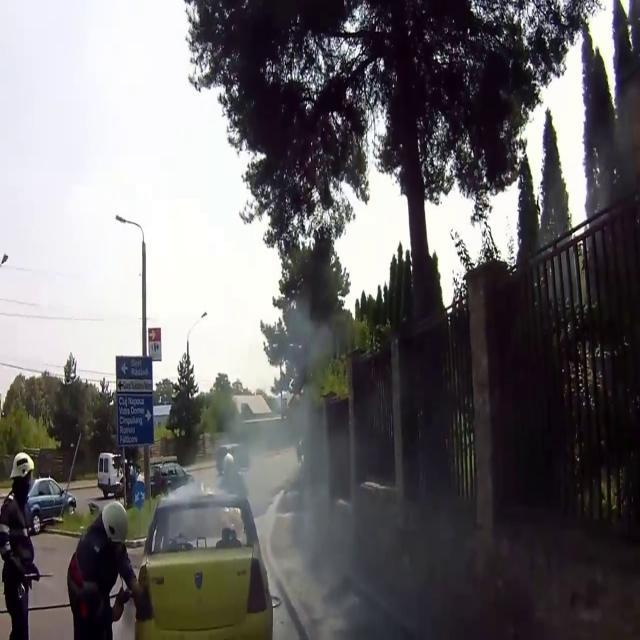Smoke: (224, 316, 488, 640)
